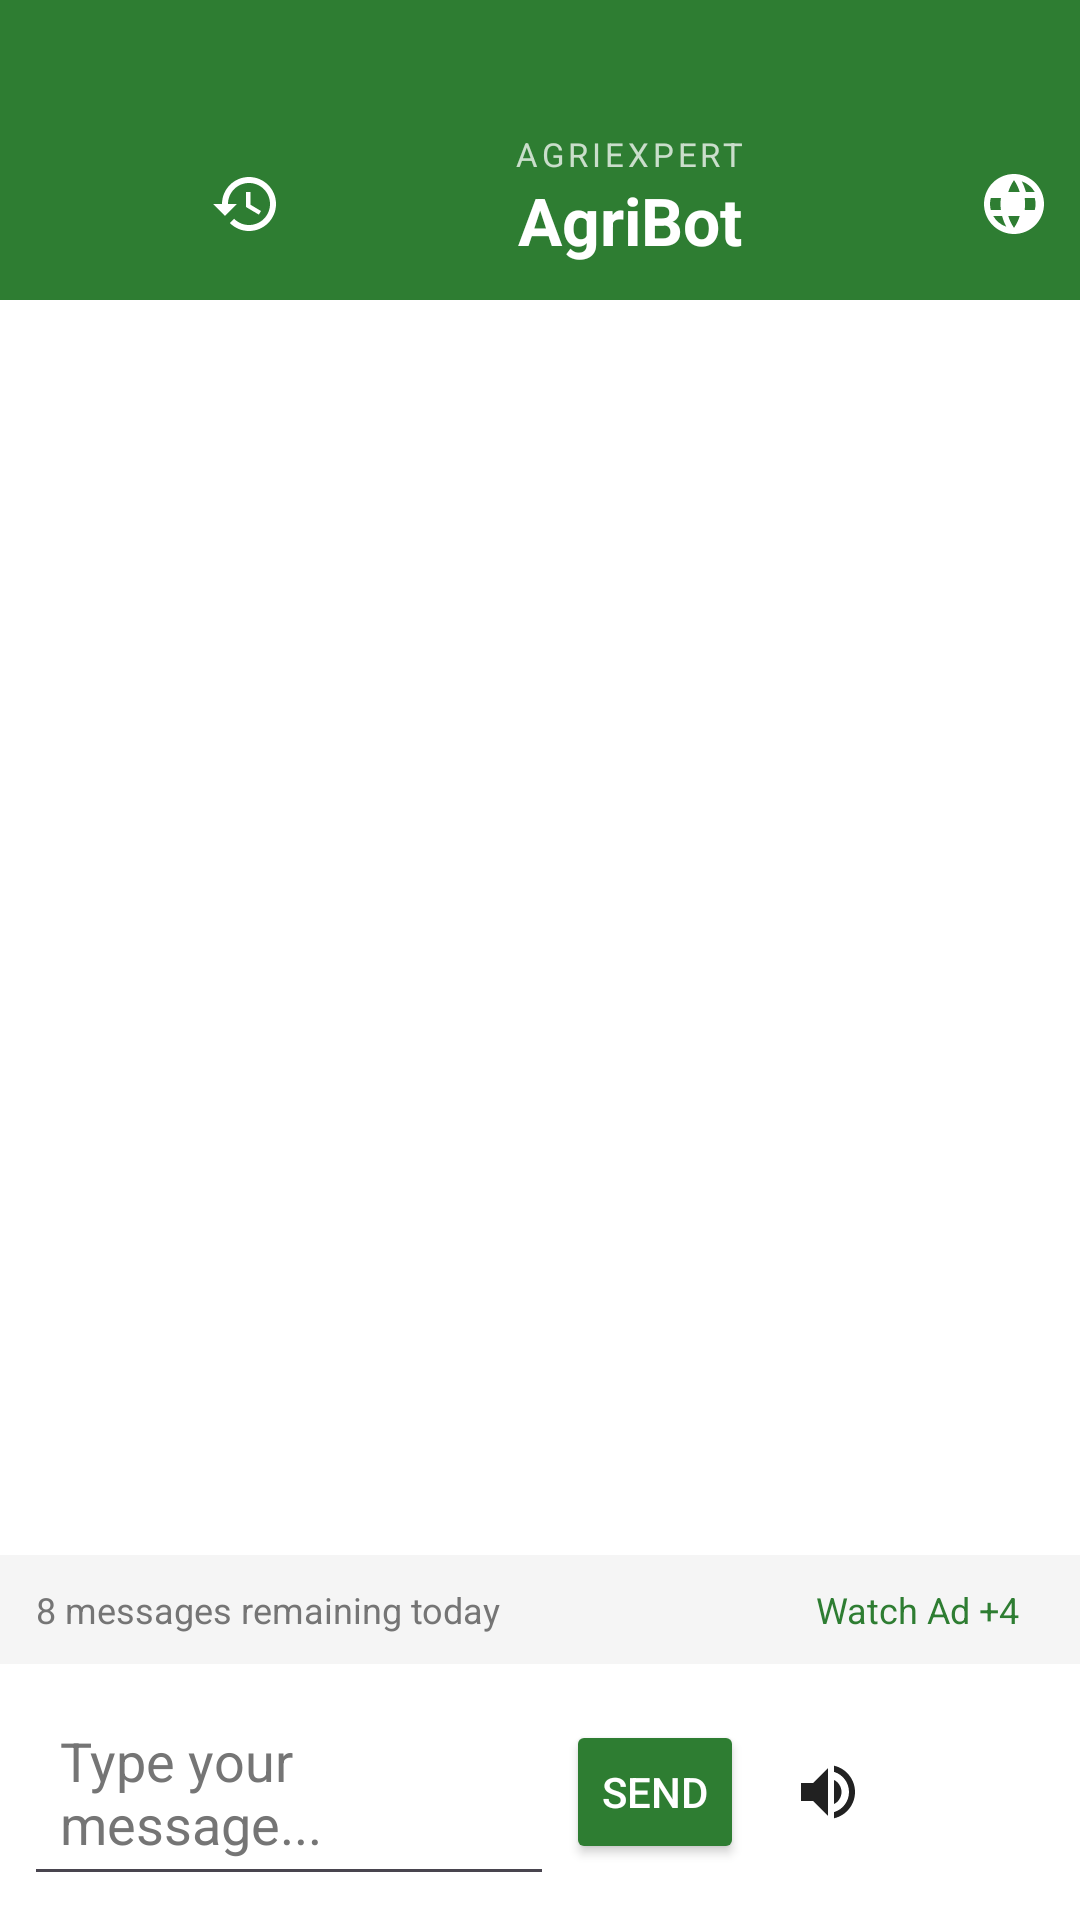

Locate icon controls on the screen. Image size 1080px×1920px, boxes as Rect(x1, y1, x2, y2).
Change language: Rect(984, 174, 1044, 234)
Chat history: Rect(213, 177, 276, 231)
Text to speech: Rect(801, 1765, 855, 1819)
